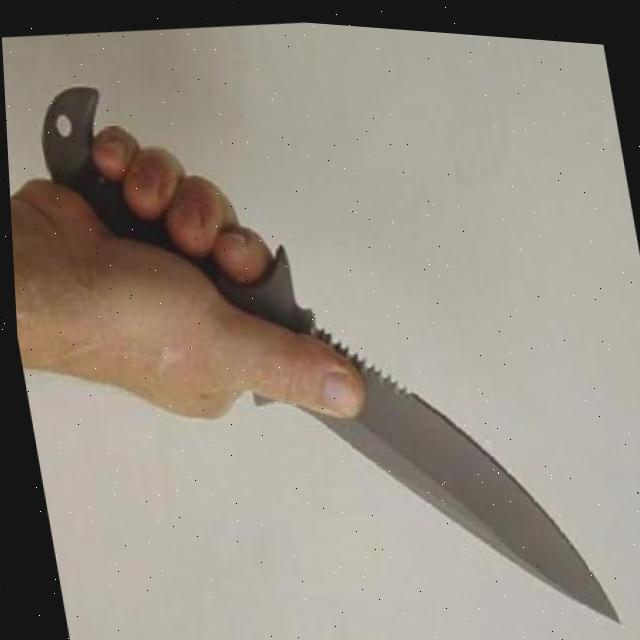knife: (28, 29, 617, 640)
